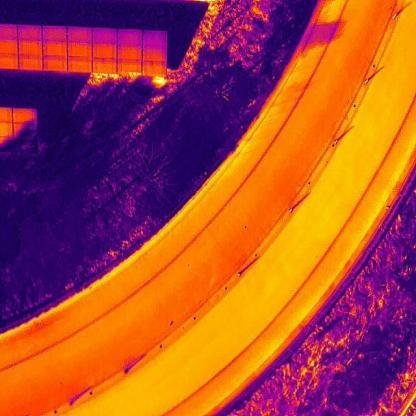Hotspot: (118, 61, 142, 74)
Normal: (67, 27, 92, 46), (142, 30, 167, 49), (92, 29, 118, 46), (118, 46, 142, 64), (18, 25, 44, 41), (118, 30, 144, 46), (42, 42, 68, 58), (92, 46, 118, 62), (42, 26, 67, 42), (18, 41, 43, 56), (67, 44, 93, 58), (142, 61, 166, 76), (142, 49, 167, 63), (43, 58, 68, 72), (68, 58, 92, 72), (18, 57, 43, 70), (92, 62, 116, 75)
Shadow: (14, 123, 36, 139), (13, 140, 38, 154), (12, 110, 36, 124)
